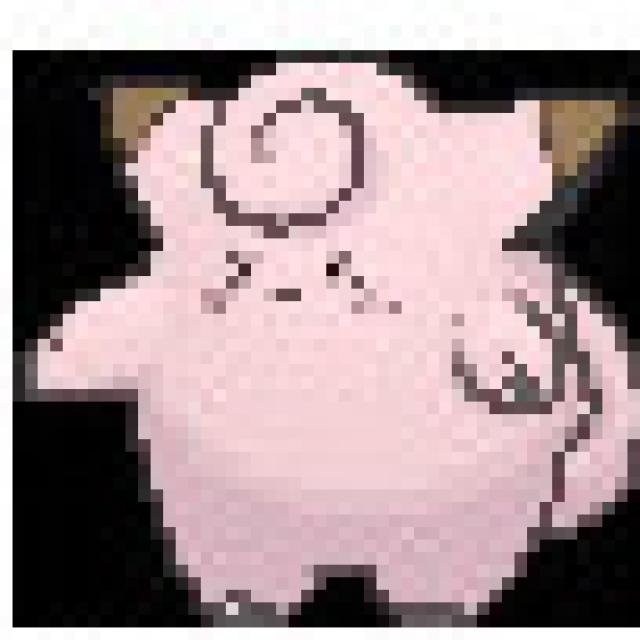Clefairy: (12, 57, 640, 636)
